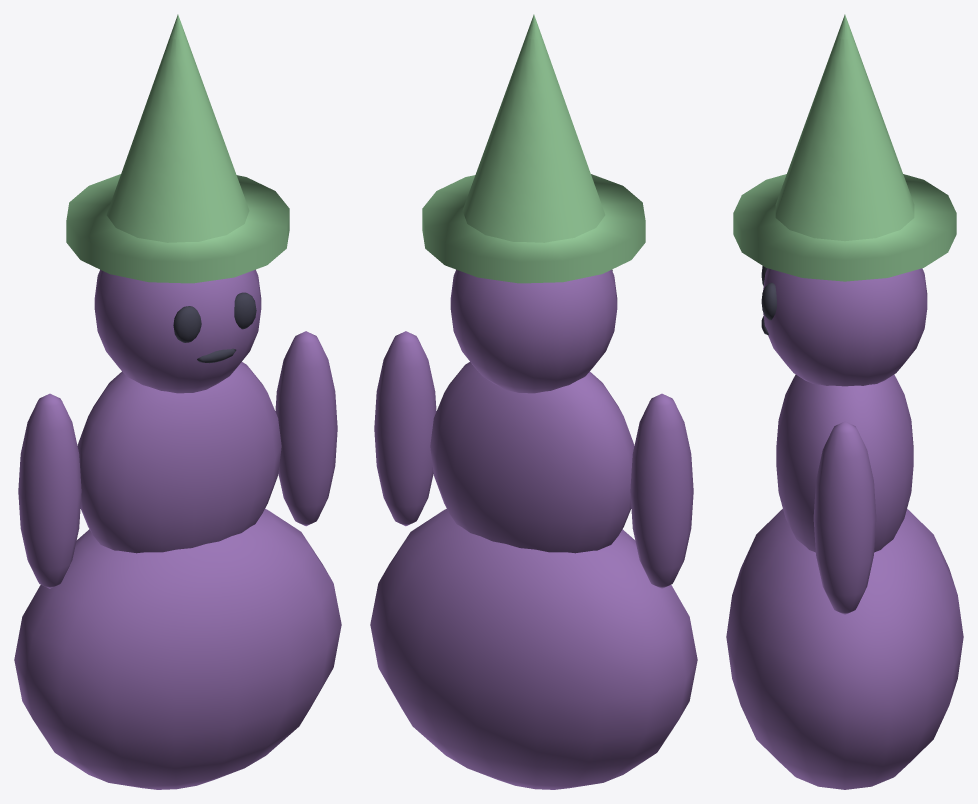
Rendered from witch.glb.
3 renders of one model, left to right at view 1: azimuth 30°, elevation 25°; view 2: azimuth 150°, elevation 25°; view 3: azimuth 270°, elevation 25°, orthographic.
Visible parts, largest first — view 1: Robe, Torso, HatCone, Head, HatBrim, ArmLeft, ArmRight, EyeLeft, EyeRight; view 2: Robe, Torso, HatCone, Head, HatBrim, ArmLeft, ArmRight; view 3: Robe, HatCone, Head, Torso, HatBrim, ArmRight, EyeRight.
Boxes of the visible parts, x1,y1,x2,y2 form: Robe: (14, 509, 341, 789); Torso: (77, 362, 281, 553); HatCone: (106, 14, 249, 242); Head: (94, 269, 261, 393); HatBrim: (66, 174, 289, 283); ArmLeft: (18, 393, 81, 588); ArmRight: (275, 331, 337, 526); EyeLeft: (173, 306, 201, 342); EyeRight: (234, 292, 256, 329); Robe: (370, 509, 697, 789); Torso: (430, 362, 634, 553); HatCone: (462, 14, 605, 242); Head: (450, 269, 617, 393); HatBrim: (422, 174, 645, 283); ArmLeft: (630, 393, 693, 588); ArmRight: (374, 331, 436, 526); Robe: (726, 509, 963, 789); HatCone: (775, 14, 914, 241); Head: (763, 268, 927, 386); Torso: (776, 374, 913, 552); HatBrim: (733, 174, 956, 281); ArmRight: (813, 421, 876, 614); EyeRight: (761, 282, 776, 320).
Bounding box in the file's own units: 0.9996 × 2.35 × 0.6664.
